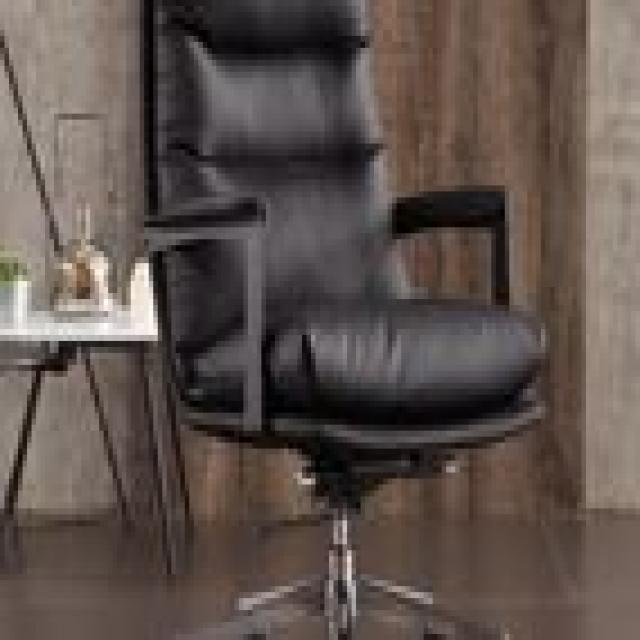others: (49, 6, 626, 640)
